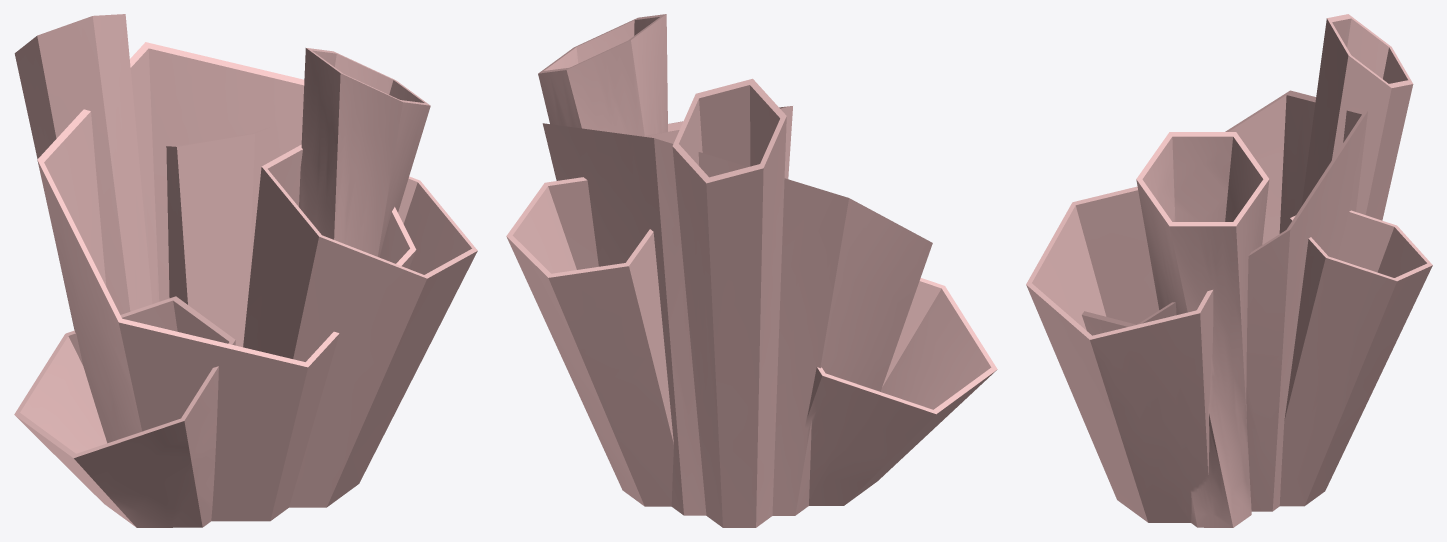
Rendered from barnacle_vase.glb.
The picture shows the model from 3 angles, left to right: view 1: azimuth 30°, elevation 25°; view 2: azimuth 150°, elevation 25°; view 3: azimuth 270°, elevation 25°; orthographic projection. The views are drawn at different scales.
Parts seen in each view (by area): view 1: Object_2; view 2: Object_2; view 3: Object_2.
Boxes of the visible parts, box(x1,y1,x2,y2) form: Object_2: box(14, 14, 477, 527); Object_2: box(506, 14, 997, 527); Object_2: box(1026, 14, 1432, 527).
Bounding box in the file's own units: 252 × 273 × 238.
